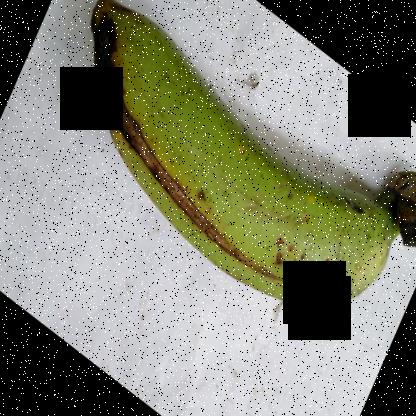rotten: (77, 1, 183, 165)
unripe: (134, 1, 415, 318)
